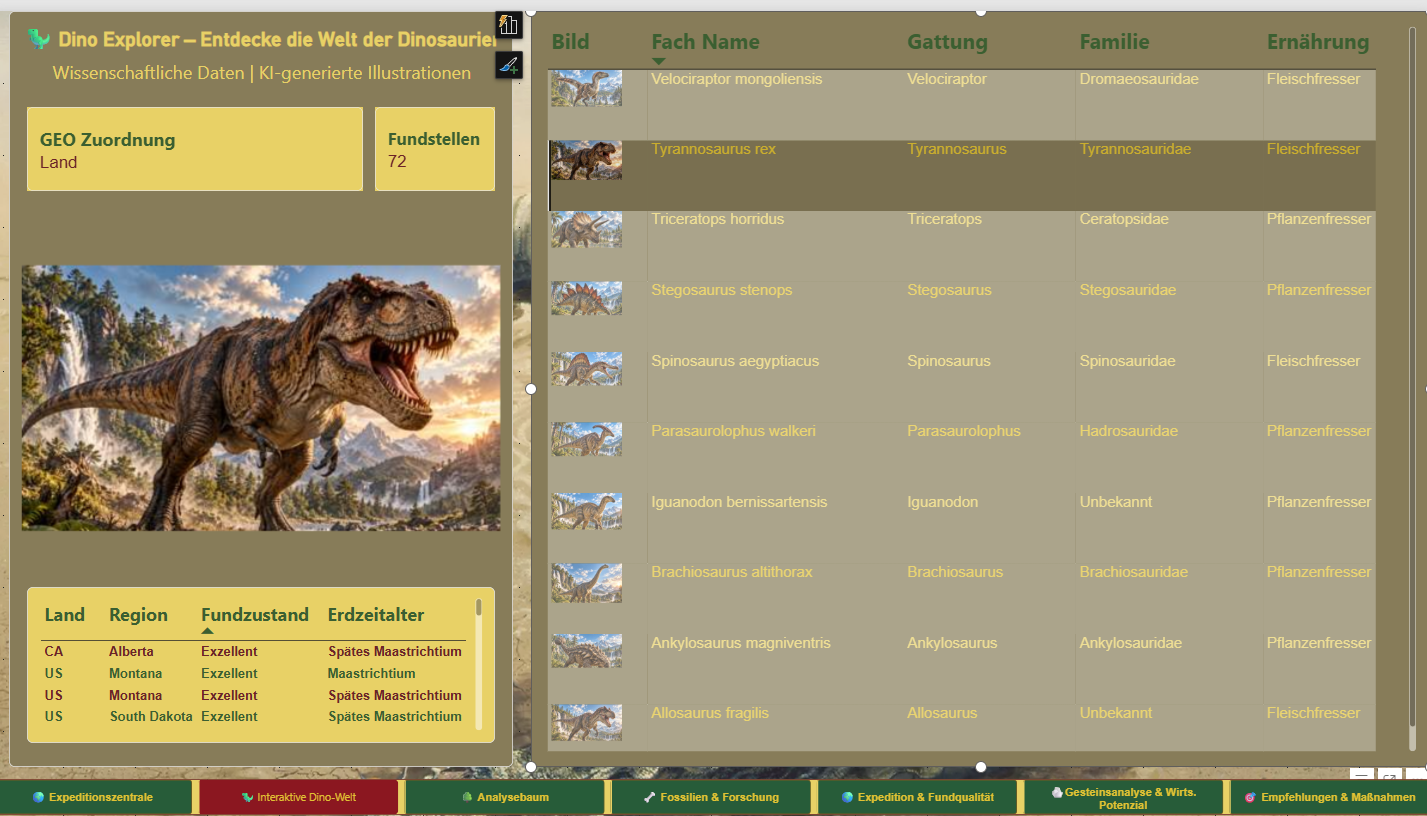

The page's visual inventory and layout, read from the dashboard file:
{"tool":"powerbi","page":{"name":"🦖 Interaktive Dino-Welt","canvas":[1920,1080],"ordinal":1},"visuals":[{"type":"ImageGrid_FC5183B9_926C_45E0_B5F7_0CE9EAF1DA9B","fields":{"ImageURL":["Dim_Dinosaurier_KI_Bilder.Bild_URL"]},"box":[24,0,672,1008],"z":0},{"type":"tableEx","fields":{"Values":["Dim_Dinosaurier_KI_Bilder.Bild_URL","Dim_Dinosaurier_KI_Bilder.Wissenschaftlicher_Name","Dinosaurier.Gattung","Dinosaurier.Familie","Dinosaurier.Ernaehrung_DE"]},"box":[720,0,1200,1008],"z":1000},{"type":"cardVisual","fields":{"Data":["_Measures.Fundstellen zugeordnet"]},"box":[512,128,160,112],"z":2000},{"type":"tableEx","fields":{"Values":["Fundstellen.Laendercode","Fundstellen.Bundesland_Region","Fundstellen.Erhaltungszustand_DE","Fundstellen.Erdzeitalter"]},"box":[48,768,624,208],"z":3000},{"type":"cardVisual","fields":{"Data":["Min(Fundstellen.Geografische_Zuordnung)"]},"box":[48,128,448,112],"z":4000},{"type":"pageNavigator","box":[0,1024,1920,48],"z":5000}]}

Visuals, with their boxes in screenshot pixels (x1, y1, x2, y2):
ImageGrid_FC5183B9_926C_45E0_B5F7_0CE9EAF1DA9B - Dim_Dinosaurier_KI_Bilder.Bild_URL: [0, 4, 510, 770]
tableEx - Dim_Dinosaurier_KI_Bilder.Bild_URL x Dim_Dinosaurier_KI_Bilder.Wissenschaftlicher_Name: [529, 4, 1426, 770]
cardVisual - _Measures.Fundstellen zugeordnet: [370, 101, 492, 186]
tableEx - Fundstellen.Laendercode x Fundstellen.Bundesland_Region: [18, 587, 492, 745]
cardVisual - Min(Fundstellen.Geografische_Zuordnung): [18, 101, 358, 186]
pageNavigator: [0, 782, 1426, 815]
